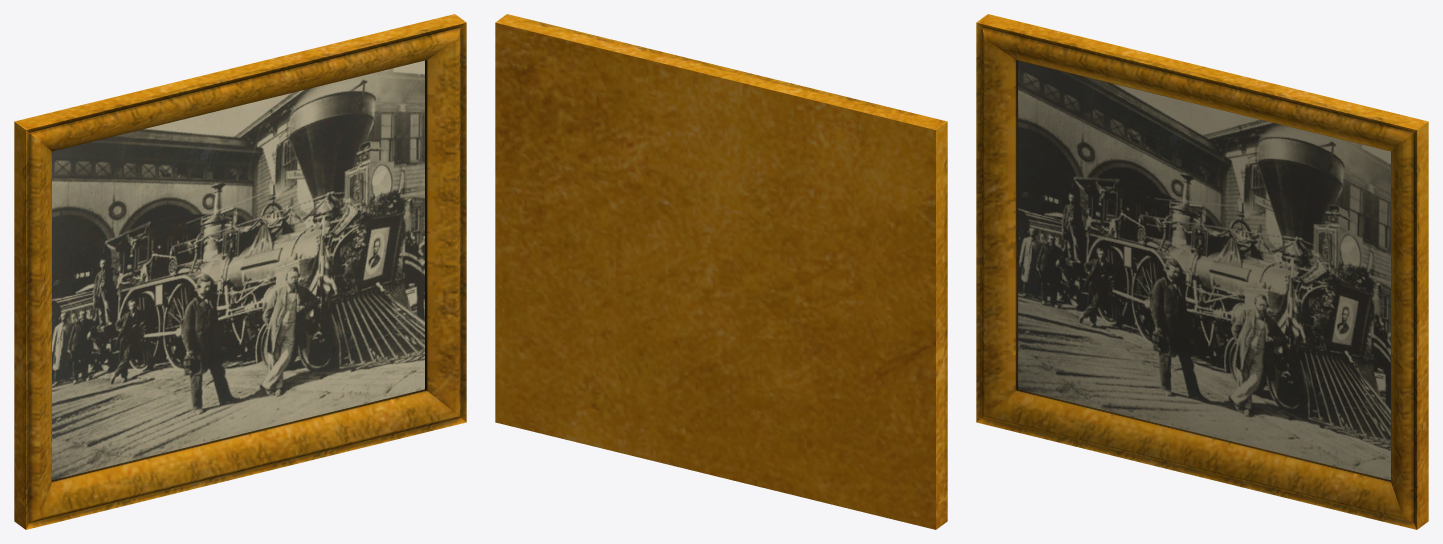
Rendered from rem_painting03.dae.
The picture shows the model from 3 angles, left to right: view 1: azimuth 30°, elevation 25°; view 2: azimuth 150°, elevation 25°; view 3: azimuth 330°, elevation 25°; orthographic projection.
Visible parts, largest first — view 1: painting_image03, painting_frame03; view 2: painting_frame03; view 3: painting_image03, painting_frame03.
Boxes of the visible parts, left/top/right/bottom form: painting_image03: left=52, top=60, right=424, bottom=479; painting_frame03: left=14, top=14, right=466, bottom=529; painting_frame03: left=495, top=14, right=947, bottom=529; painting_image03: left=1018, top=60, right=1390, bottom=479; painting_frame03: left=976, top=14, right=1428, bottom=529.
Bounding box in the file's own units: 1.5 × 1.3 × 0.0841.
